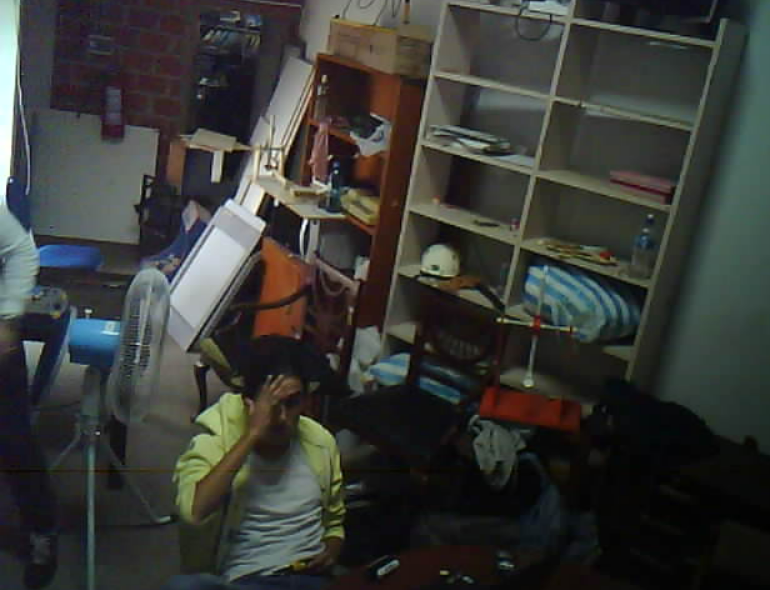person: (155, 320, 387, 590), (0, 165, 71, 590)
